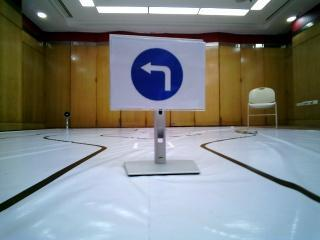left: (113, 37, 207, 112)
